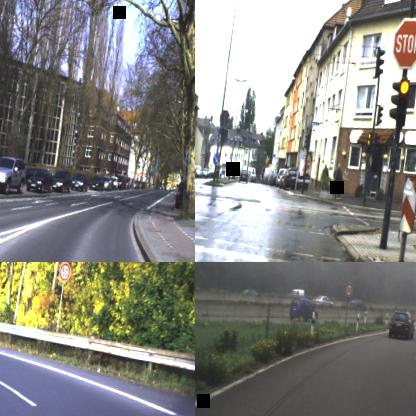STOP: (388, 15, 416, 71)
keep right: (212, 153, 219, 165)
speed limit 50: (57, 262, 71, 281)
speed limit 80: (344, 282, 353, 297)
